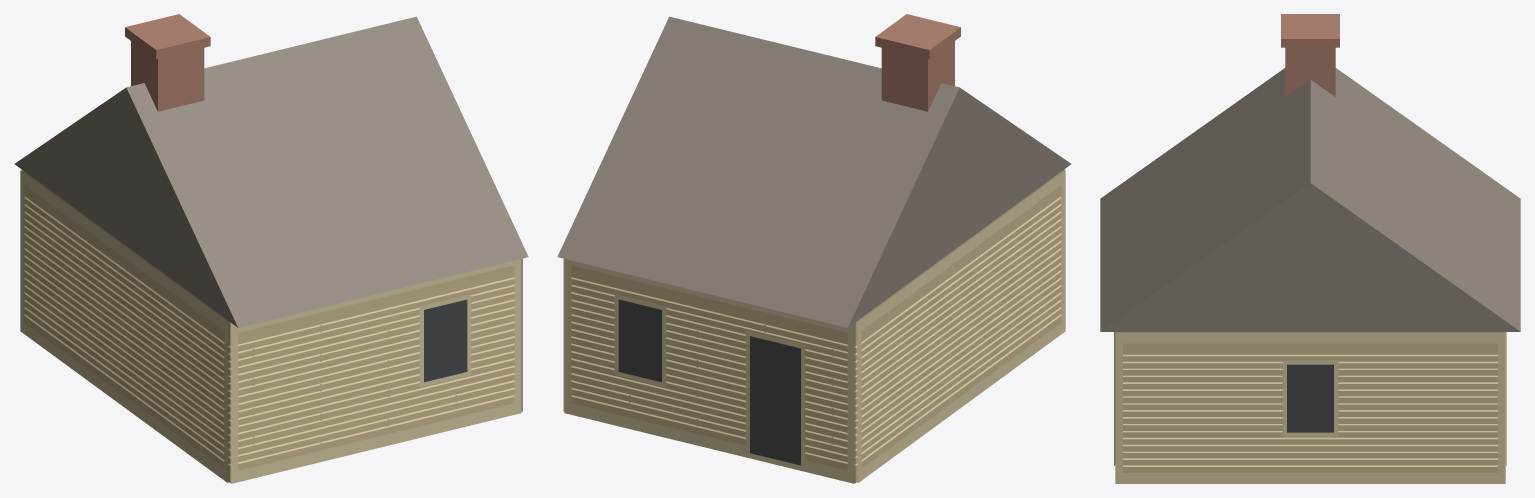
The model's file is recon_1835_south_d3_001__inferred_1835.glb.
3 renders of one model, left to right at view 1: azimuth 30°, elevation 25°; view 2: azimuth 150°, elevation 25°; view 3: azimuth 270°, elevation 25°, orthographic. The views are drawn at different scales.
Parts seen in each view (by area): view 1: recon_1835_south_d3_001__inferred_1835; view 2: recon_1835_south_d3_001__inferred_1835; view 3: recon_1835_south_d3_001__inferred_1835.
Boxes of the visible parts, x1,y1,x2,y2 form: recon_1835_south_d3_001__inferred_1835: (14,14,528,483); recon_1835_south_d3_001__inferred_1835: (557,14,1071,483); recon_1835_south_d3_001__inferred_1835: (1100,14,1520,483).
Bounding box in the file's own units: 5.33 × 6.3 × 7.01.
